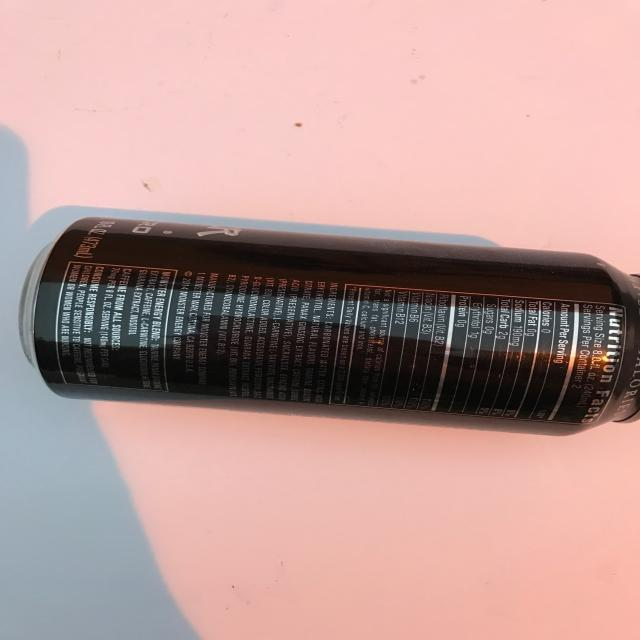metal: (18, 217, 640, 437)
